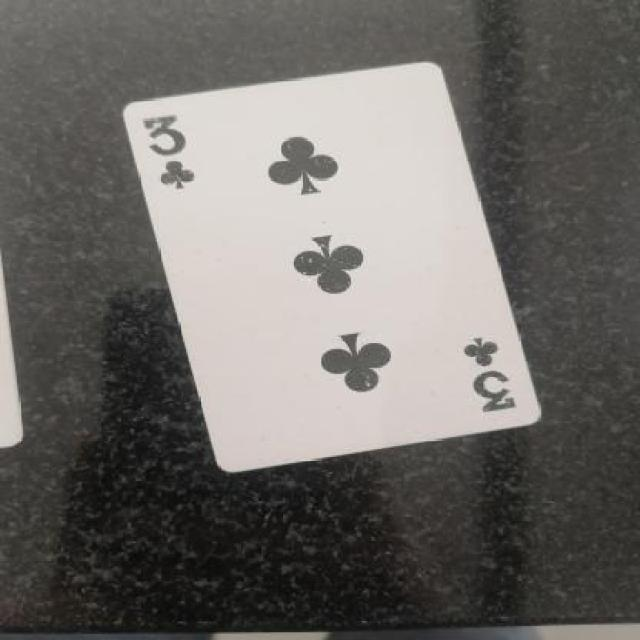3C: (129, 100, 208, 194), (447, 329, 528, 416)
